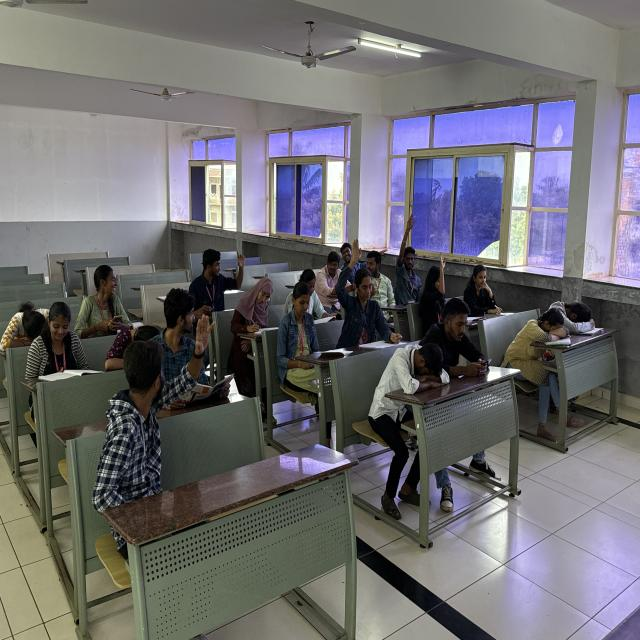Hand Rising: (193, 238, 250, 314), (182, 308, 224, 406), (336, 234, 375, 320), (397, 211, 428, 311), (432, 250, 455, 305)
Reading: (29, 298, 101, 393), (299, 266, 338, 326)
Sleeping: (373, 340, 455, 405), (510, 306, 571, 366), (103, 323, 167, 371), (0, 300, 55, 353), (547, 295, 608, 337)
Using Phone: (418, 297, 504, 384), (76, 262, 134, 336)
Writing: (232, 273, 280, 357), (464, 262, 506, 318)
